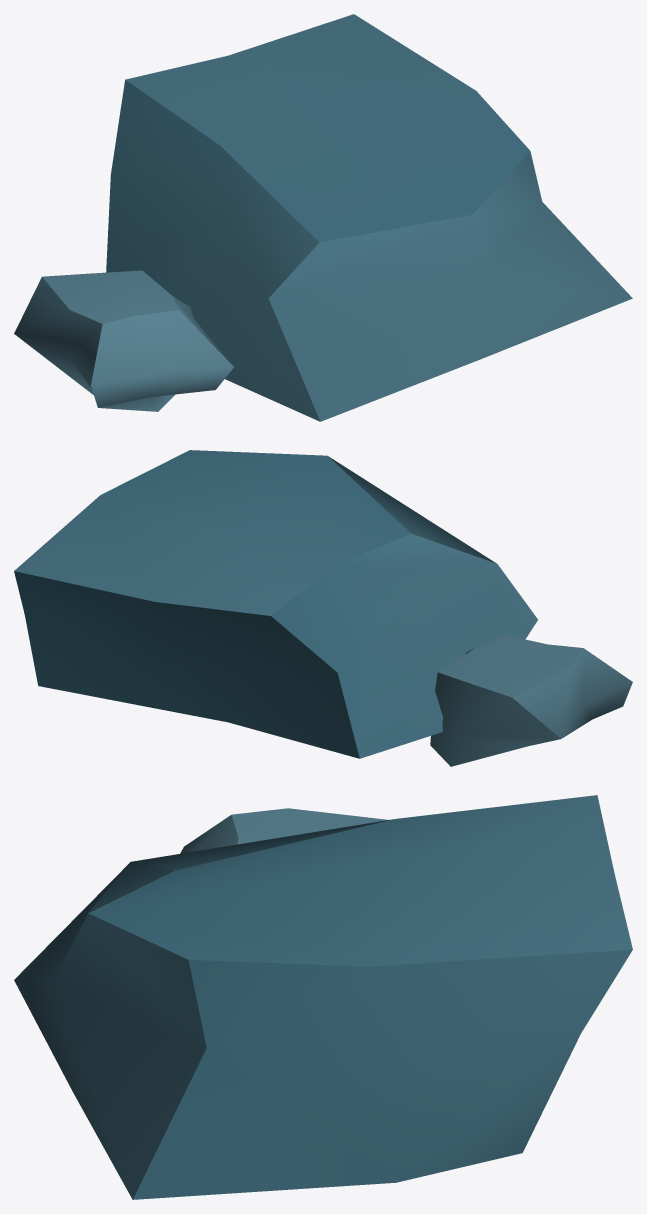
Rendered from Rock02.fbx.
The picture shows the model from 3 angles, top to bottom: view 1: azimuth 30°, elevation 25°; view 2: azimuth 150°, elevation 25°; view 3: azimuth 270°, elevation 25°; orthographic projection. The views are drawn at different scales.
Visible parts, largest first — view 1: Mediuam_Rocks; view 2: Mediuam_Rocks; view 3: Mediuam_Rocks.
Part boxes in pixels (x1=…): Mediuam_Rocks: x1=14, y1=14, x2=632, y2=421; Mediuam_Rocks: x1=14, y1=450, x2=632, y2=766; Mediuam_Rocks: x1=14, y1=795, x2=632, y2=1199.
Bounding box in the file's own units: 76.24 × 27.72 × 61.79.
